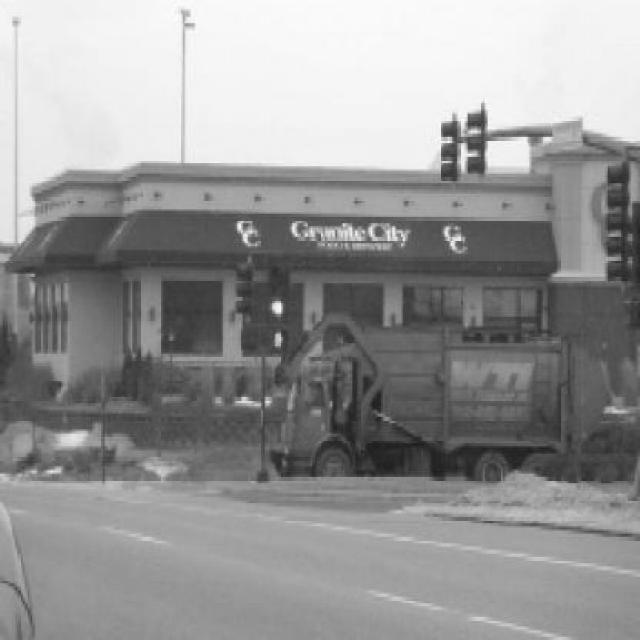Garbage Truck: (267, 314, 604, 482)
